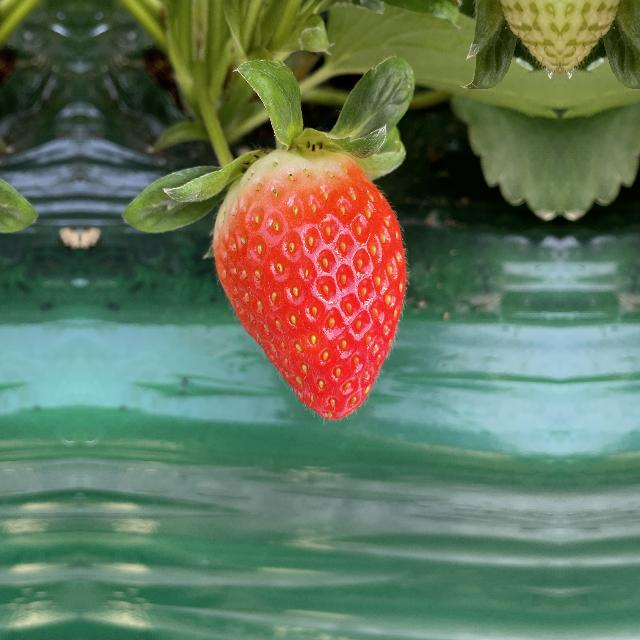Health_100: (212, 134, 414, 422)
